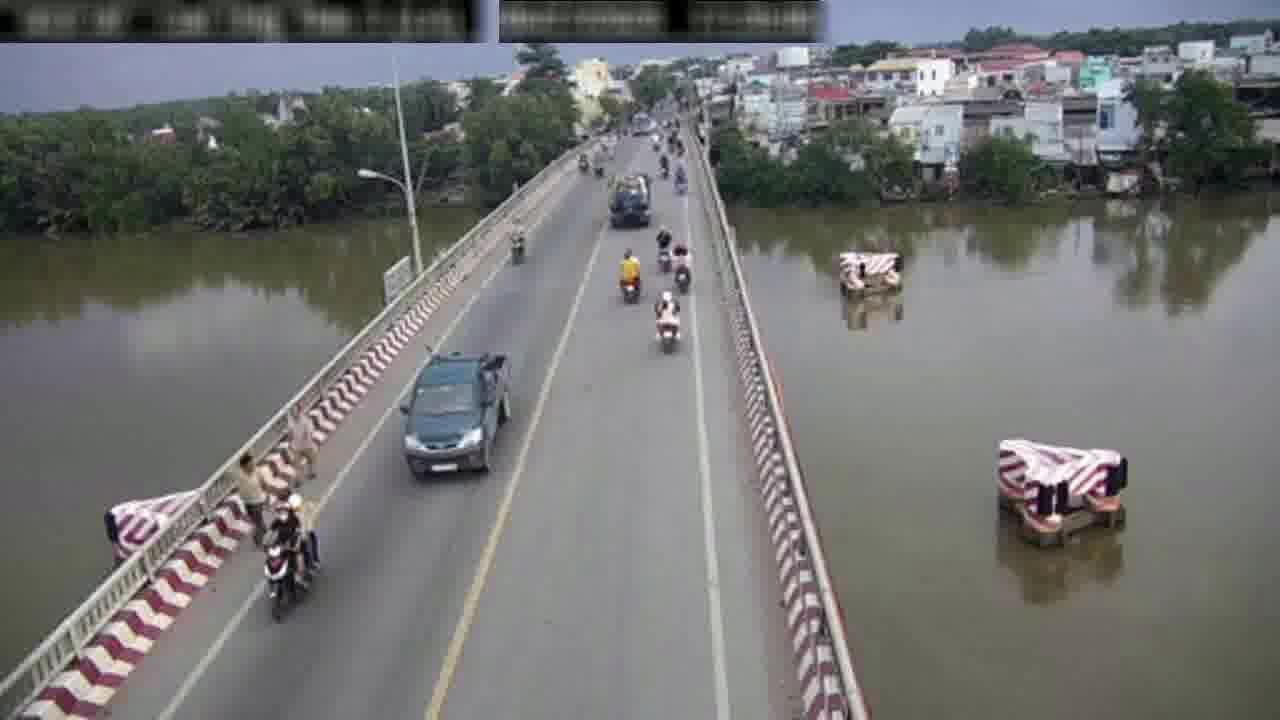car: (395, 345, 520, 496)
container: (604, 167, 652, 232)
motorbike: (256, 481, 327, 623), (654, 285, 681, 354), (615, 244, 642, 306), (670, 238, 693, 294), (507, 209, 527, 265), (654, 226, 675, 273)
